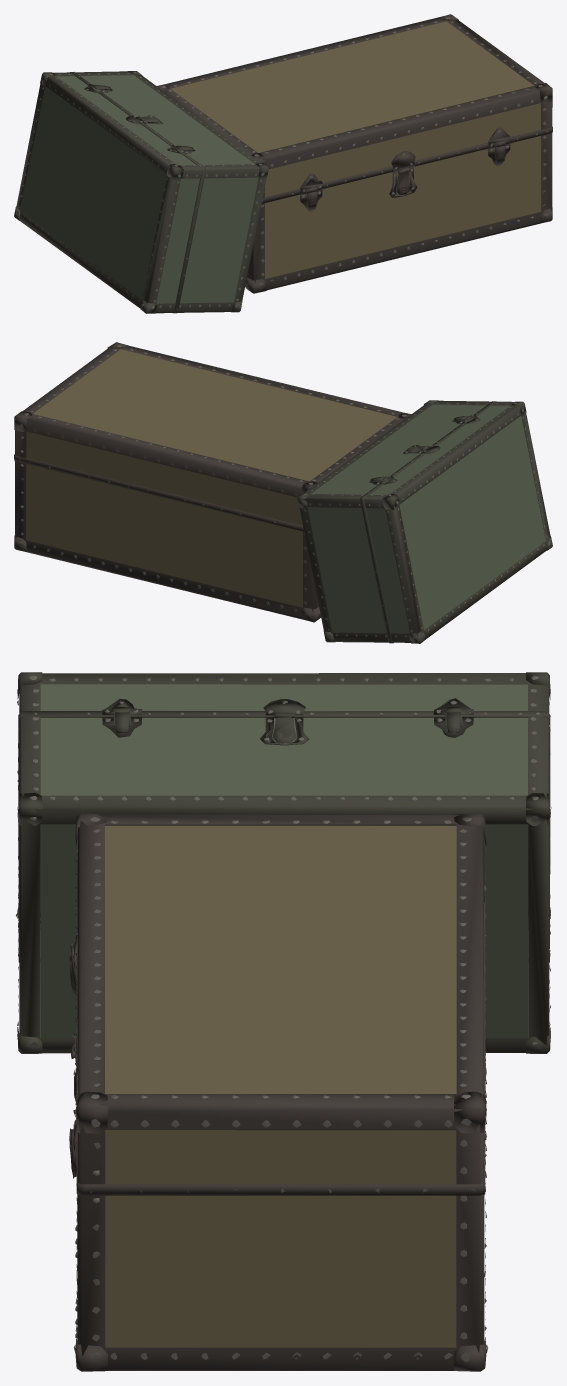
The model's file is valigie.glb.
3 renders of one model, top to bottom at view 1: azimuth 30°, elevation 25°; view 2: azimuth 150°, elevation 25°; view 3: azimuth 270°, elevation 25°, orthographic. The views are drawn at different scales.
Parts seen in each view (by area): view 1: 12289_Luggage_v1_l2, 12289_Luggage_v1_l2.002; view 2: 12289_Luggage_v1_l2, 12289_Luggage_v1_l2.002; view 3: 12289_Luggage_v1_l2, 12289_Luggage_v1_l2.002.
Part boxes in pixels (x1,y1,x2,y2): 12289_Luggage_v1_l2: (157,14,552,293); 12289_Luggage_v1_l2.002: (14,71,268,313); 12289_Luggage_v1_l2: (14,342,411,622); 12289_Luggage_v1_l2.002: (297,400,552,643); 12289_Luggage_v1_l2: (69,813,488,1371); 12289_Luggage_v1_l2.002: (16,672,551,1053).
Bounding box in the file's own units: 0.6692 × 0.2427 × 0.3666.
